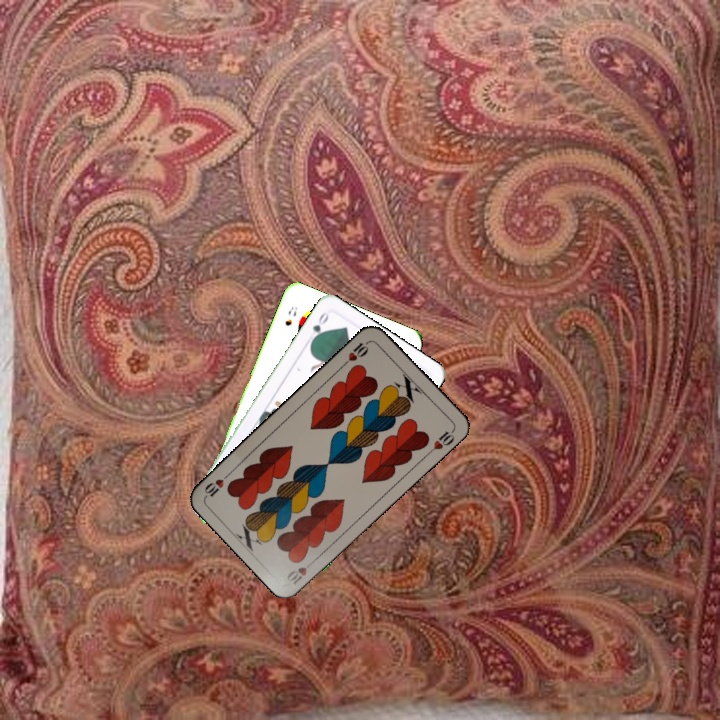GO: (307, 308, 331, 346)
H10: (283, 555, 318, 587), (339, 337, 372, 369)
S8: (281, 302, 300, 328)
